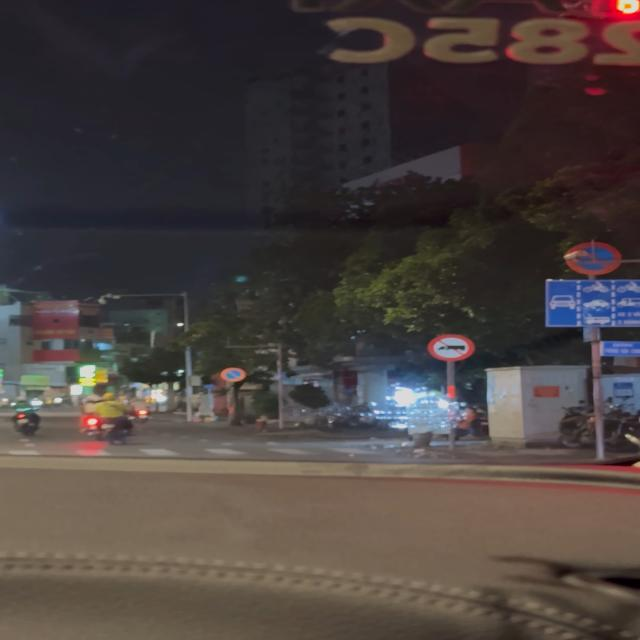Bien bao cam do xe: (218, 365, 252, 384)
Bien bao cam xe so-mi ro-mooc: (426, 333, 482, 362)
